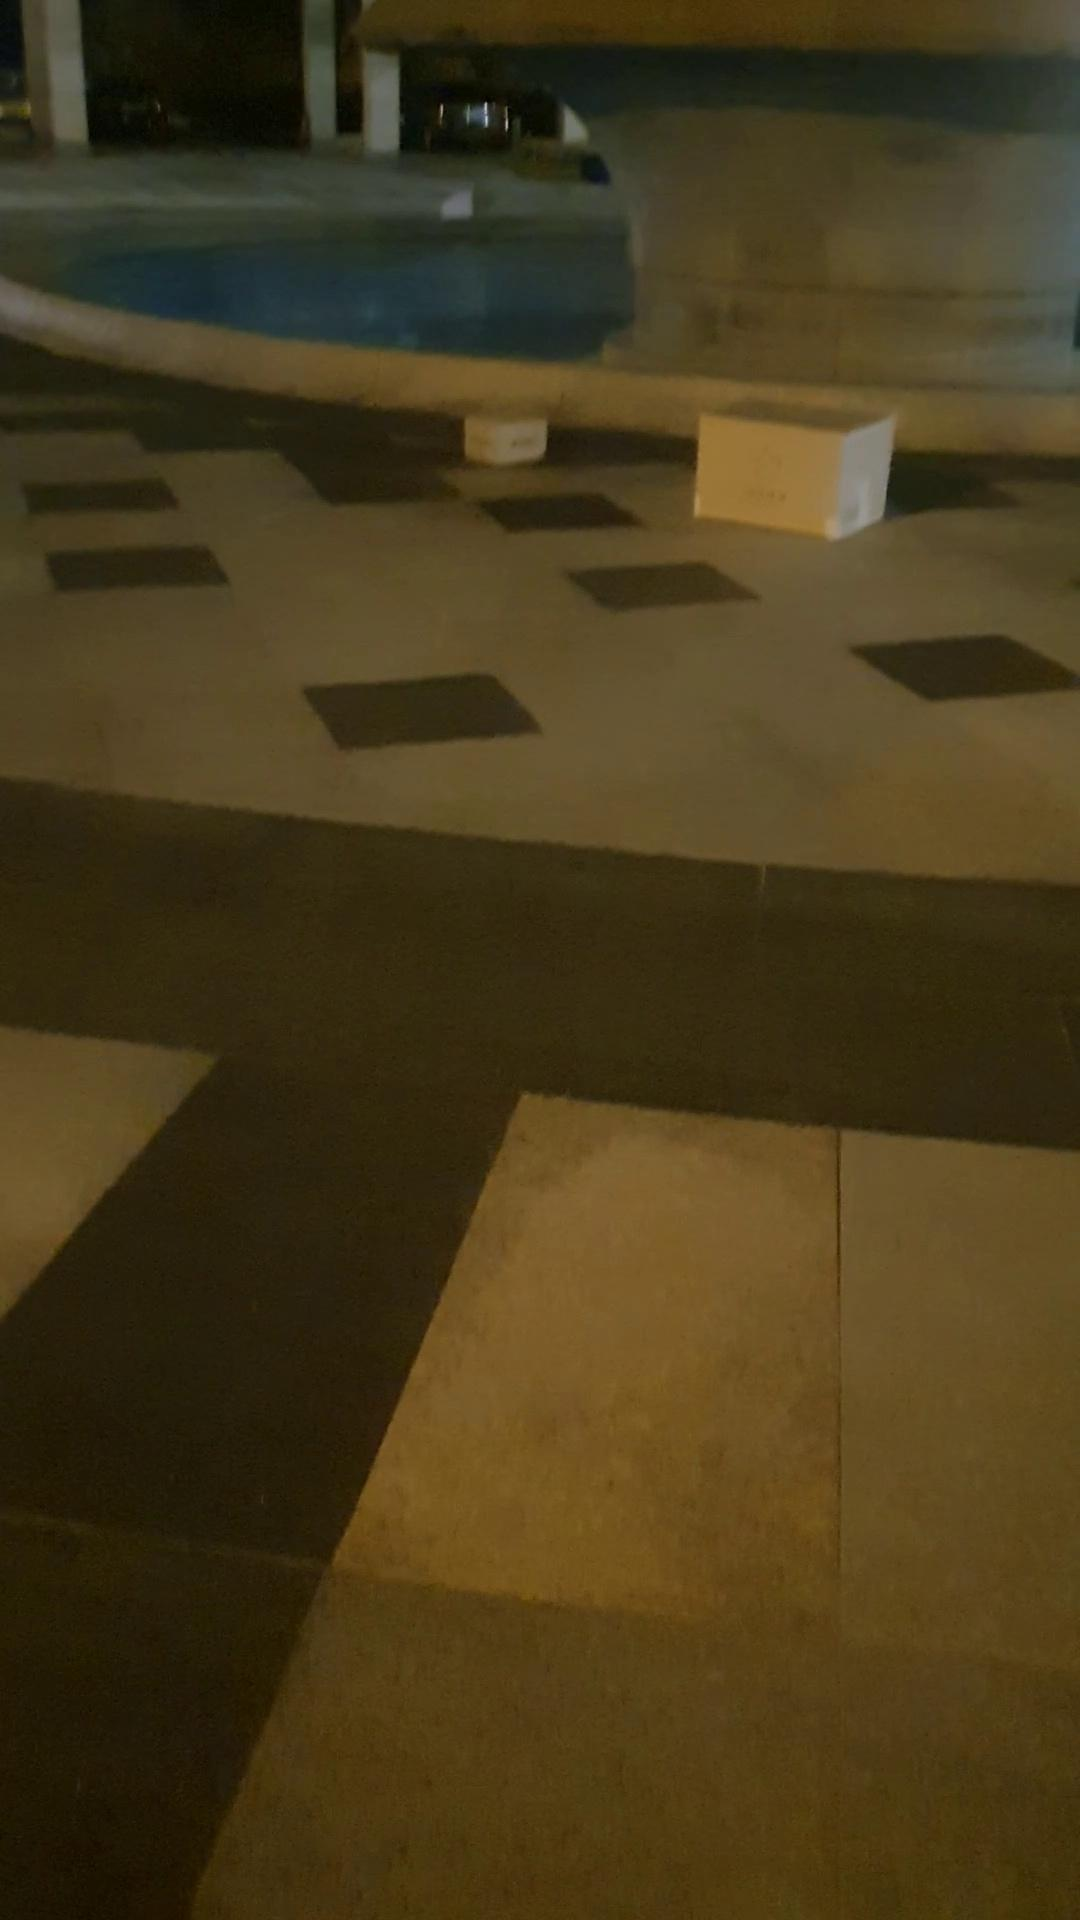Box: (683, 375, 919, 560), (458, 398, 560, 475)
